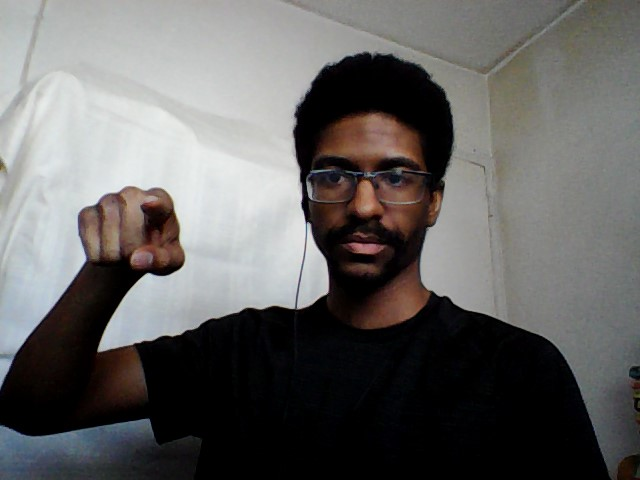z: (72, 182, 190, 278)
